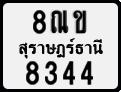letters: (50, 9, 69, 34), (25, 60, 40, 86), (32, 9, 47, 34), (62, 60, 76, 86), (80, 60, 94, 85), (73, 10, 87, 34), (45, 60, 57, 86)
province: (18, 37, 103, 59)
